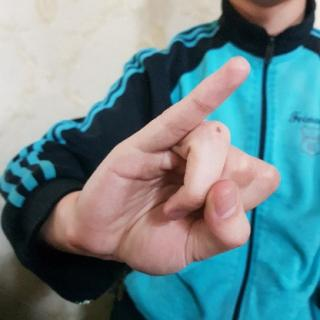MEEM: (66, 53, 282, 282)
